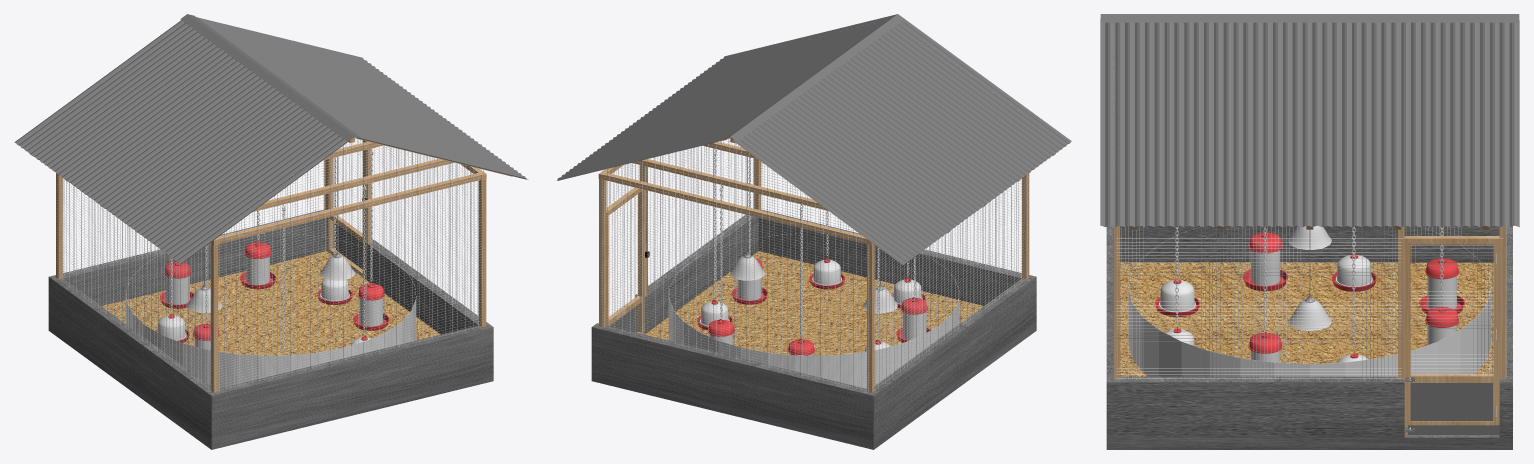
The model's file is 3x3 Broiler.glb.
The picture shows the model from 3 angles, left to right: view 1: azimuth 30°, elevation 25°; view 2: azimuth 150°, elevation 25°; view 3: azimuth 270°, elevation 25°; orthographic projection. The views are drawn at different scales.
Visible parts, largest first — view 1: 0.9m x 6m__0.4mm divide into 3 - Back, Cement, 0.9m x 6m__0.4mm divide into 3 - Front, Rice Hull, Mesh Wire Vertical 0.025x0.025x0.0016m, Mesh Wire Horizontal 0.025x0.025x0.0016m, Mesh Wire Vertical 0.025x0.025x0.0016m.Back, Cylinder, Mesh Wire Vertical 0.025x0.025x0.0016m.Front, Mesh Wire Horizontal 0.025x0.025x0.0016m.Back, Ridge Roll, Wall Plate Left (+15 smaller); view 2: 0.9m x 6m__0.4mm divide into 3 - Back, Cement, 0.9m x 6m__0.4mm divide into 3 - Front, Rice Hull, Mesh Wire Vertical 0.025x0.025x0.0016m.Right, Mesh Wire Horizontal 0.025x0.025x0.0016m.Right, Mesh Wire Vertical 0.025x0.025x0.0016m.Back, Cylinder, Mesh Wire Horizontal 0.025x0.025x0.0016m.Back, Mesh Wire Vertical 0.025x0.025x0.0016m.Front, Ridge Roll, Wall Plate Right (+16 smaller); view 3: 0.9m x 6m__0.4mm divide into 3 - Front, Cement, Rice Hull, Cylinder, Mesh Wire Horizontal 0.025x0.025x0.0016m.Front, Mesh Wire Vertical 0.025x0.025x0.0016m.Front, Ridge Roll, Door Silver, Door Frame, Frame, Mesh Wire Horizontal 0.025x0.025x0.0016m.Door, Post Front Right (+15 smaller).
Boxes of the visible parts, x1,y1,x2,y2 form: 0.9m x 6m__0.4mm divide into 3 - Back: (14,20,347,263); Cement: (48,209,493,449); 0.9m x 6m__0.4mm divide into 3 - Front: (196,17,528,179); Rice Hull: (102,251,440,355); Mesh Wire Vertical 0.025x0.025x0.0016m: (219,139,483,391); Mesh Wire Horizontal 0.025x0.025x0.0016m: (215,140,483,391); Mesh Wire Vertical 0.025x0.025x0.0016m.Back: (59,175,210,390); Cylinder: (126,233,416,388); Mesh Wire Vertical 0.025x0.025x0.0016m.Front: (374,146,478,320); Mesh Wire Horizontal 0.025x0.025x0.0016m.Back: (57,174,211,390); Ridge Roll: (180,14,361,141); Wall Plate Left: (217,173,481,243); 0.9m x 6m__0.4mm divide into 3 - Back: (733,19,1071,265); Cement: (591,209,1036,449); 0.9m x 6m__0.4mm divide into 3 - Front: (557,16,889,180); Rice Hull: (645,251,983,355); Mesh Wire Vertical 0.025x0.025x0.0016m.Right: (602,138,868,391); Mesh Wire Horizontal 0.025x0.025x0.0016m.Right: (601,140,869,391); Mesh Wire Vertical 0.025x0.025x0.0016m.Back: (875,176,1026,390); Cylinder: (669,233,959,388); Mesh Wire Horizontal 0.025x0.025x0.0016m.Back: (873,176,1027,390); Mesh Wire Vertical 0.025x0.025x0.0016m.Front: (606,139,753,290); Ridge Roll: (724,14,904,141); Wall Plate Right: (603,173,866,243); 0.9m x 6m__0.4mm divide into 3 - Front: (1100,19,1519,227); Cement: (1106,225,1512,449); Rice Hull: (1120,262,1493,418); Cylinder: (1128,226,1491,376); Mesh Wire Horizontal 0.025x0.025x0.0016m.Front: (1116,238,1502,378); Mesh Wire Vertical 0.025x0.025x0.0016m.Front: (1117,226,1461,379); Ridge Roll: (1100,14,1519,22); Door Silver: (1410,383,1493,420); Door Frame: (1408,242,1495,425); Frame: (1404,236,1499,434); Mesh Wire Horizontal 0.025x0.025x0.0016m.Door: (1411,245,1493,374); Post Front Right: (1499,225,1506,379).
Size of the model in its own units: 3.7 by 2.85 by 3.09.
Materials: 35 (9 with a texture image).
